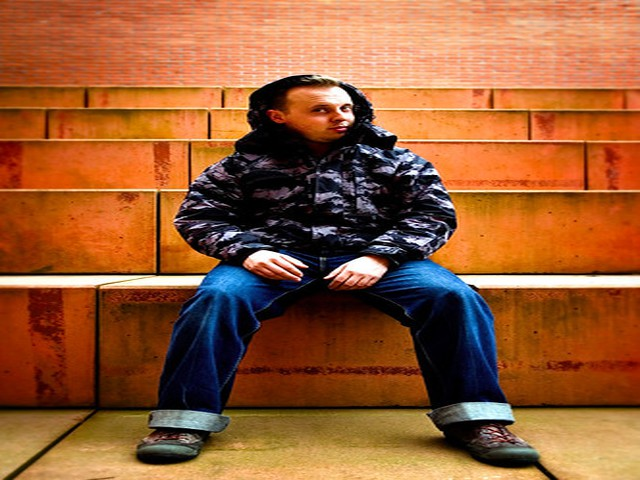Person: (129, 72, 545, 468)
